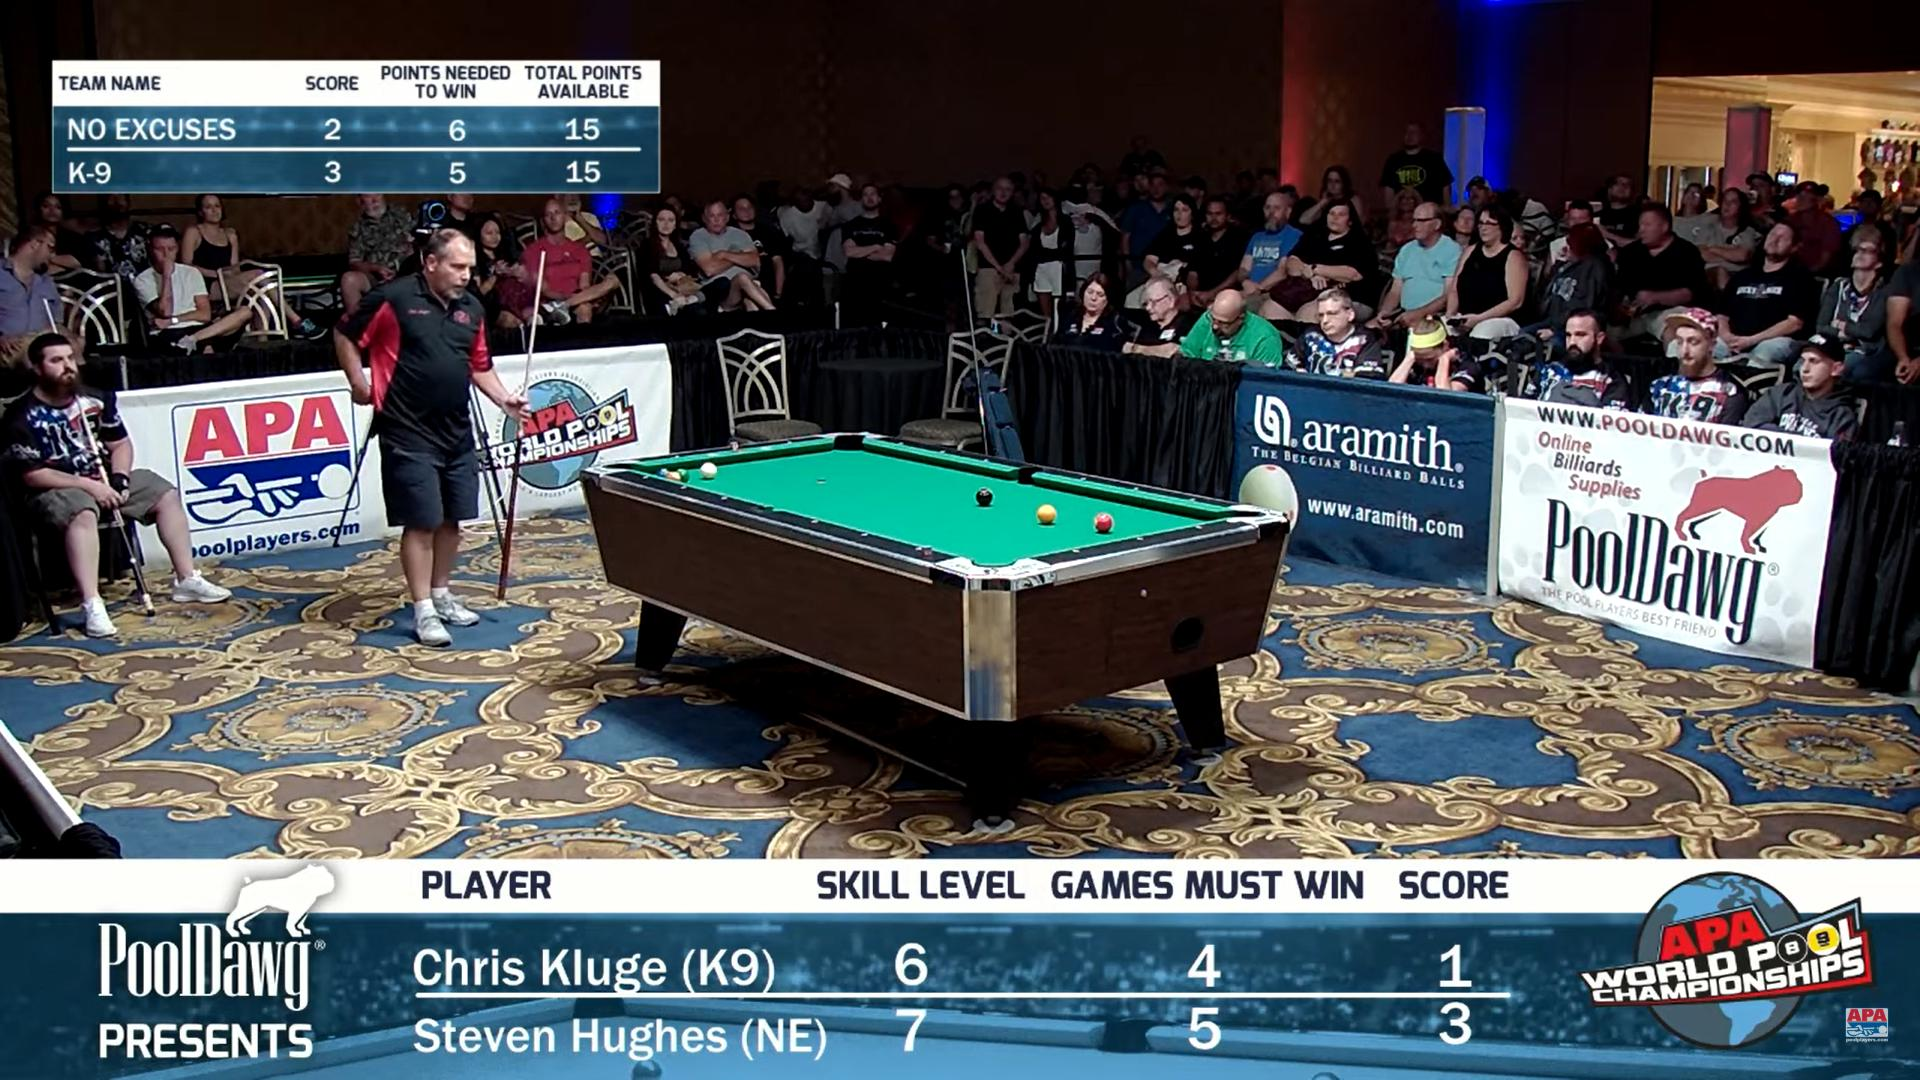Black: (976, 488, 993, 505)
Cue: (700, 462, 717, 479)
Dot: (913, 543, 927, 554), (670, 451, 684, 462), (894, 438, 909, 448), (935, 447, 949, 458), (978, 455, 993, 465), (1076, 473, 1091, 484), (1192, 521, 1207, 531), (1133, 534, 1147, 545), (858, 530, 872, 541), (808, 516, 822, 526), (716, 493, 731, 502), (638, 473, 653, 483), (782, 438, 796, 447), (1185, 495, 1200, 504), (1068, 546, 1083, 555), (676, 483, 690, 492), (1129, 484, 1142, 493)
Solid: (1095, 513, 1113, 533), (1036, 505, 1056, 524), (676, 468, 690, 483)
Striped: (666, 471, 680, 481), (658, 468, 669, 477)
